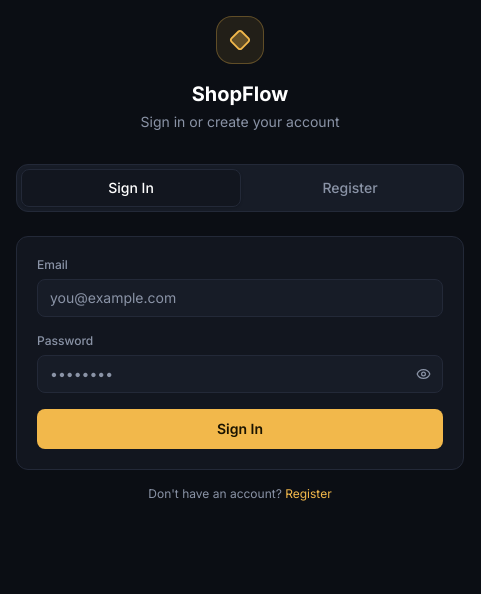
Test: AuthPage — Register › shows success message after registration
The image size is (481, 594).
Click the 1st button "Register": (350, 188) [241, 169, 459, 207]
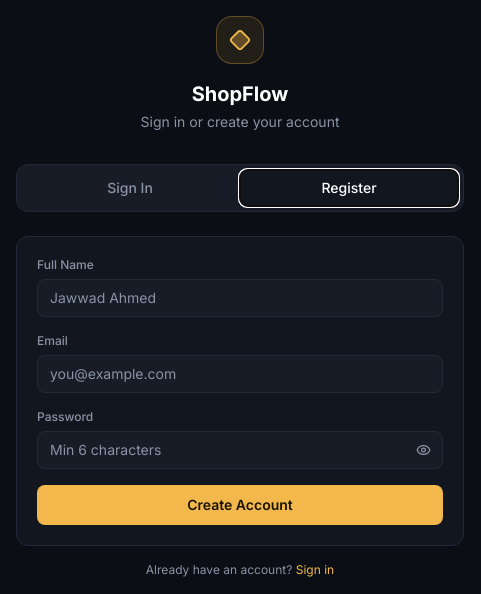
In the field with placeholder "Jawwad Ahmed": (240, 298) [37, 279, 443, 317], type "New User"
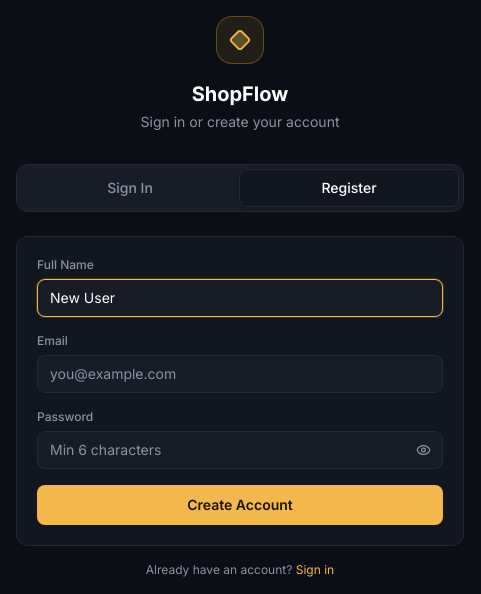
In the field with placeholder "you@example.com": (240, 374) [37, 355, 443, 393], type "new@b.com"
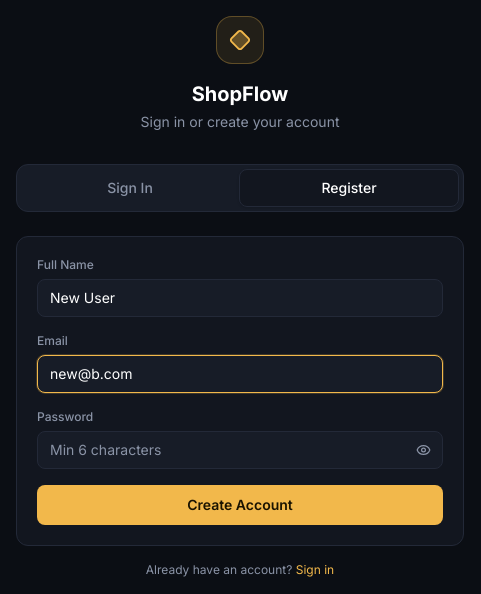
In the password field with placeholder "Min 6 characters": (240, 450) [37, 431, 443, 469], type "password123"
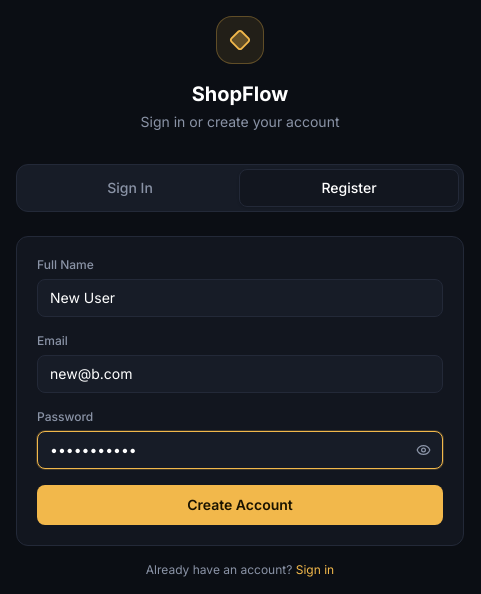
Click the button "Create Account": (240, 505) [37, 485, 443, 525]
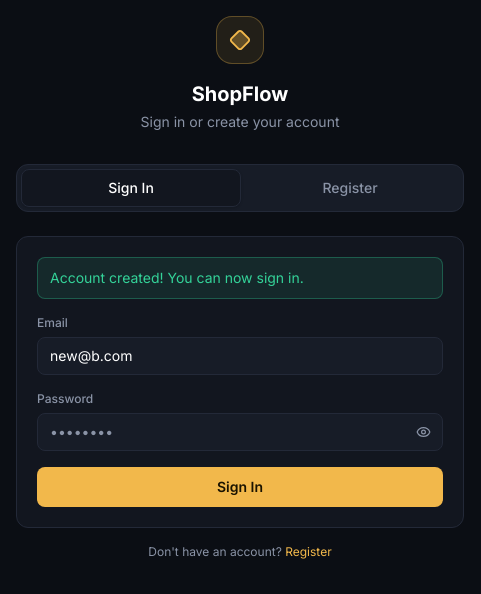
Check: the text "Account created! You can now sign in." is shown, box [37, 257, 443, 299]
